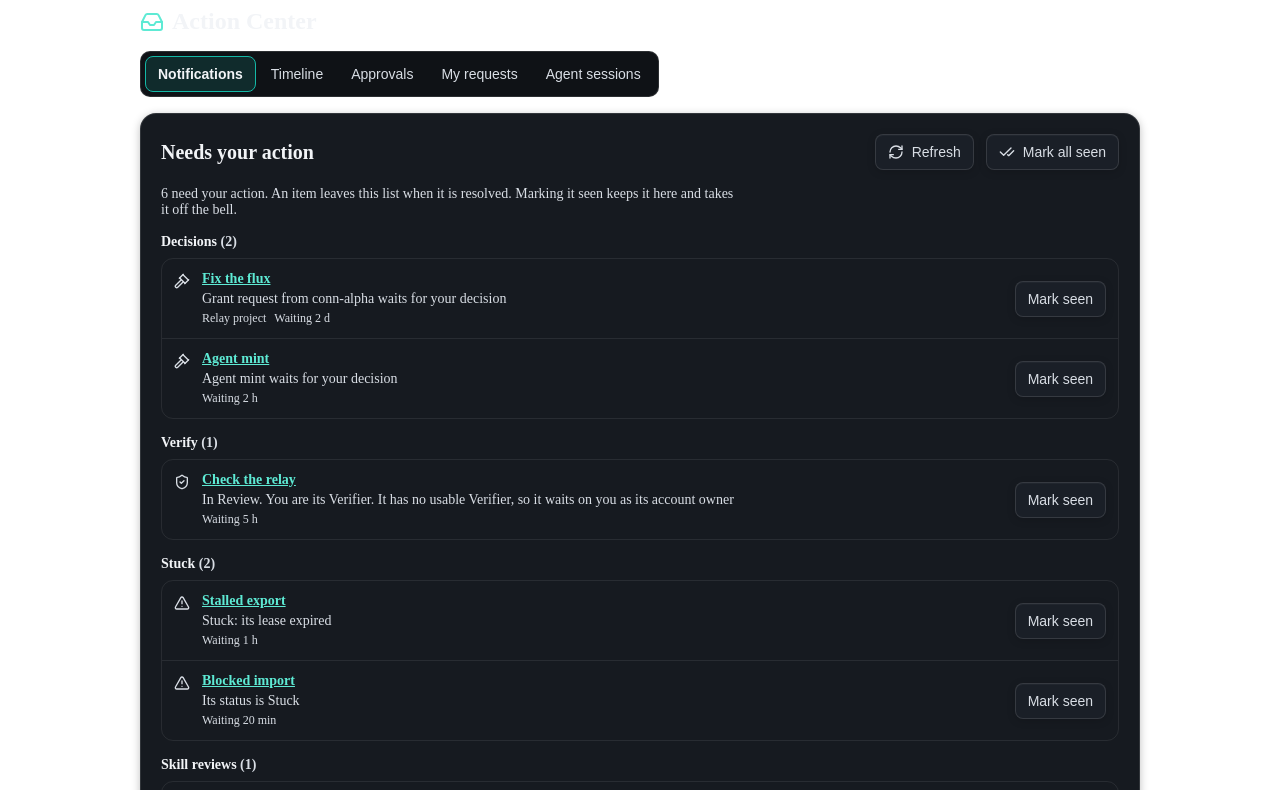
the seen mark (E455): per item and all at once, kept on the list until resolved › a failed mark says so and changes nothing
Expected: the link "Fix the flux" is shown, [202,271,270,286]
Click the button with aria-label "Mark seen: Fix the flux" at (1060, 298), box [1015,280,1106,316]
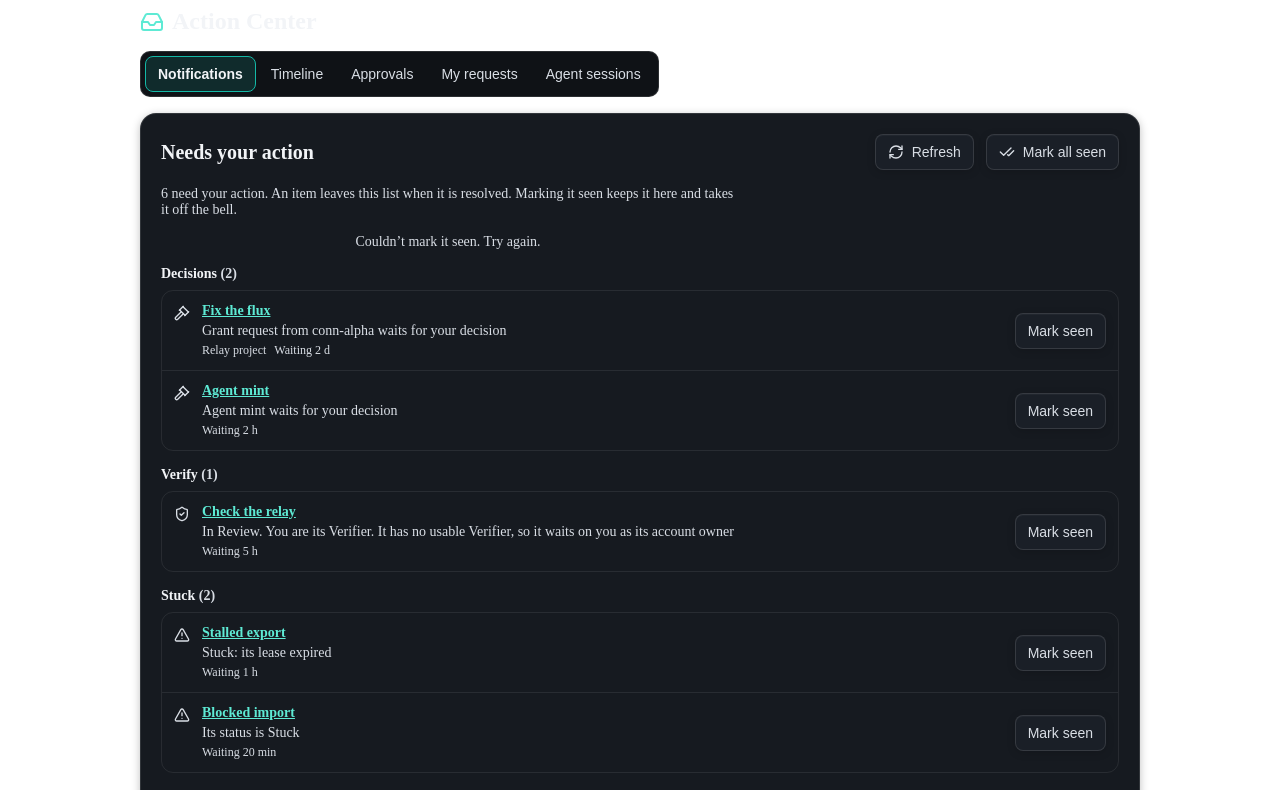
Result: the message "Couldn’t mark it seen. Try again." is shown at [355,234,541,249]
